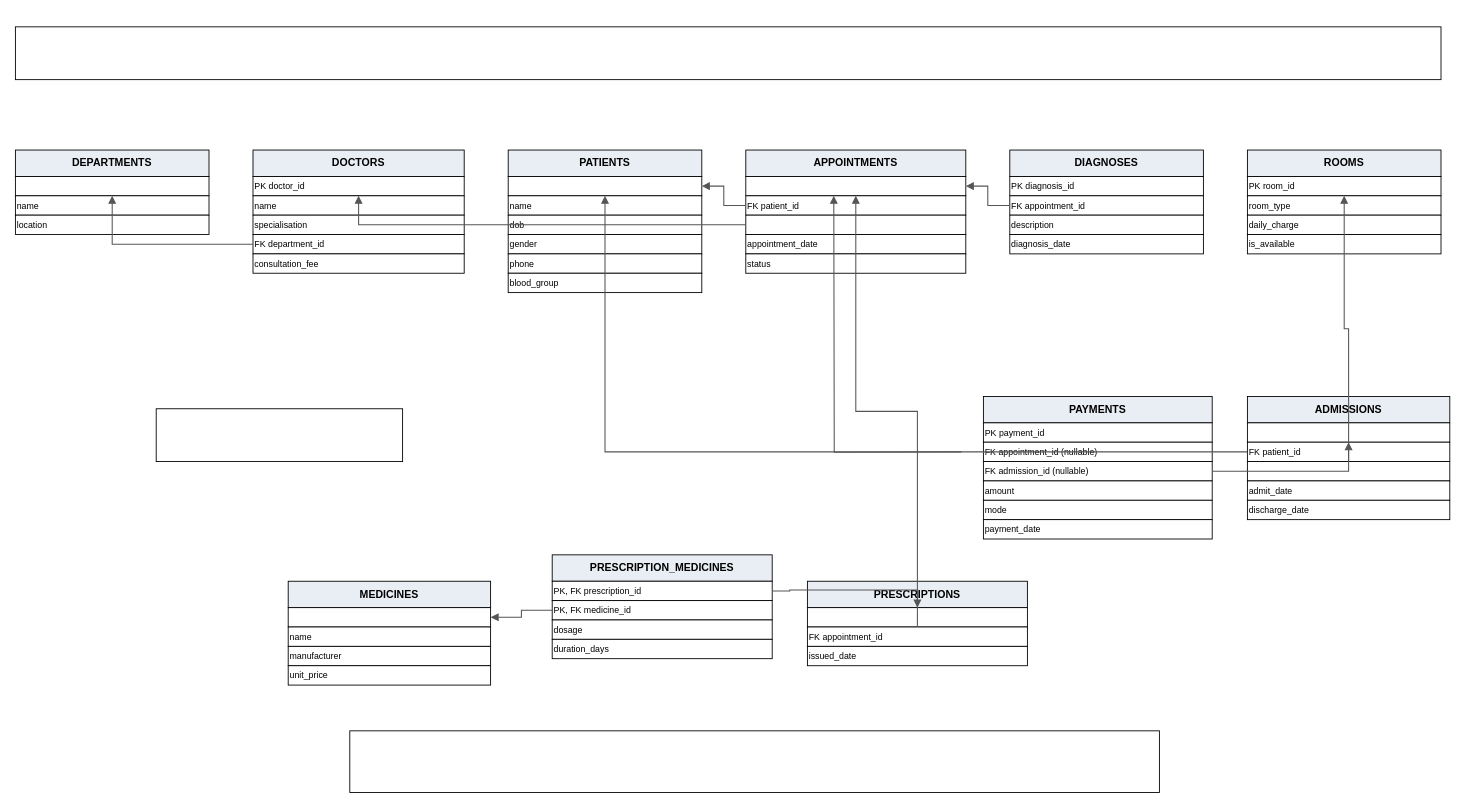
Image size: 1465x808. Some labels were removed from this diagram. Each missing label, with the box of its shape:
FK doctor_id: (745, 214, 966, 235)
FK room_id: (1247, 461, 1450, 481)
Key: PK = Primary Key FK = Foreign Key: (155, 408, 403, 462)
MediCare – Relational Schema: (15, 26, 1441, 80)
PK admission_id: (1247, 422, 1450, 442)
PK appointment_id: (745, 176, 966, 196)
PK department_id: (15, 176, 209, 196)
PK medicine_id: (287, 607, 491, 627)
PK patient_id: (507, 176, 702, 196)
PK prescription_id: (807, 607, 1027, 627)
